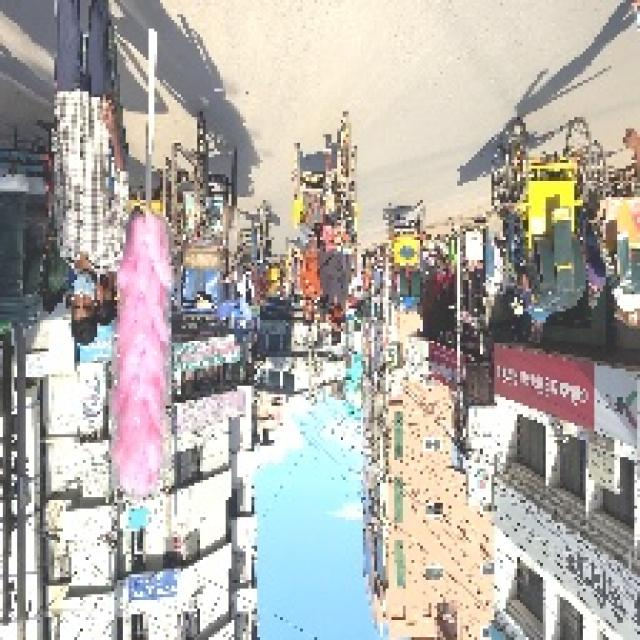rickshaw: (489, 117, 592, 312), (291, 114, 368, 311), (170, 115, 242, 318), (383, 201, 430, 316)
